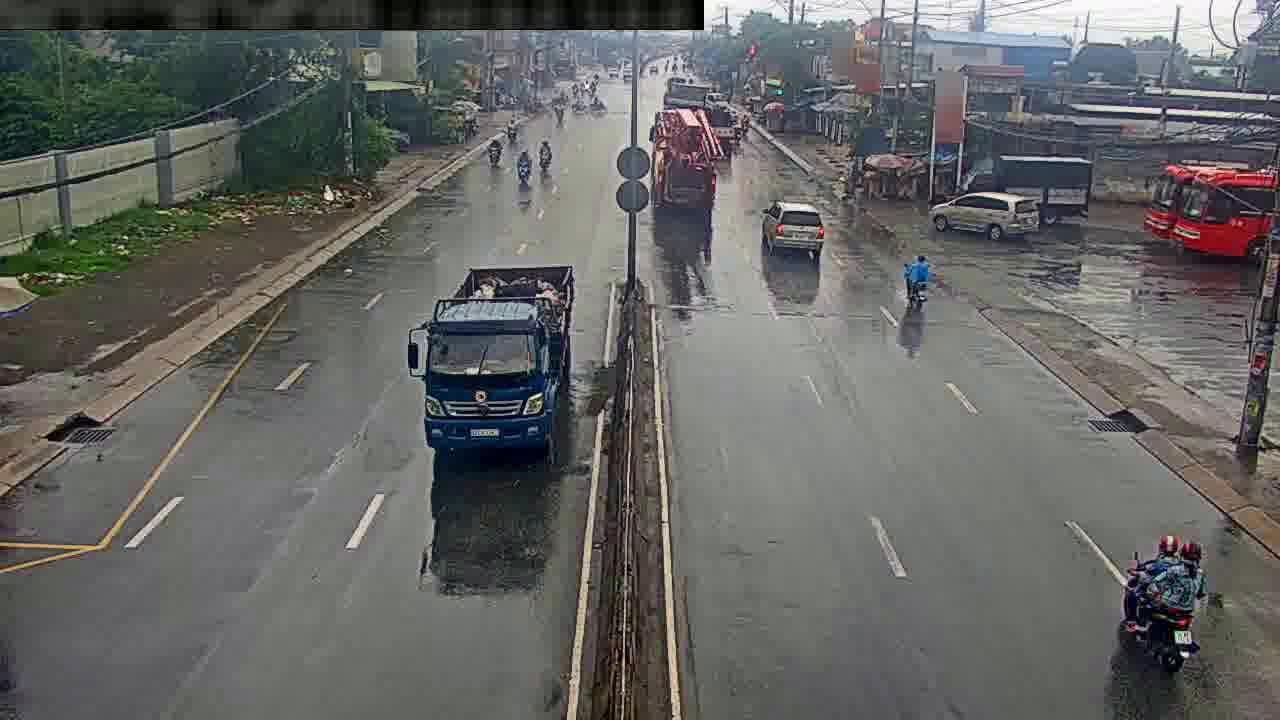8: (416, 261, 572, 455), (653, 105, 718, 207)
container: (768, 195, 820, 257)
motorbike: (1129, 520, 1199, 664), (903, 249, 930, 313), (514, 146, 532, 190), (485, 135, 505, 166), (540, 141, 553, 170), (278, 257, 287, 259)
